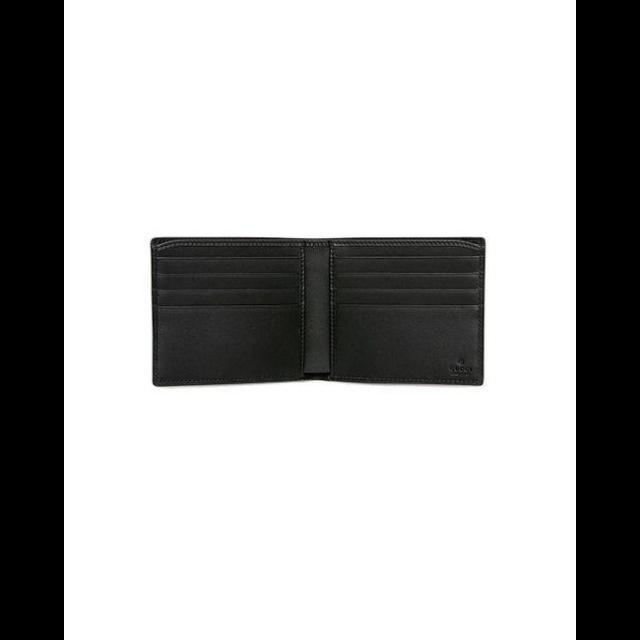Wallet: (152, 238, 484, 386)
